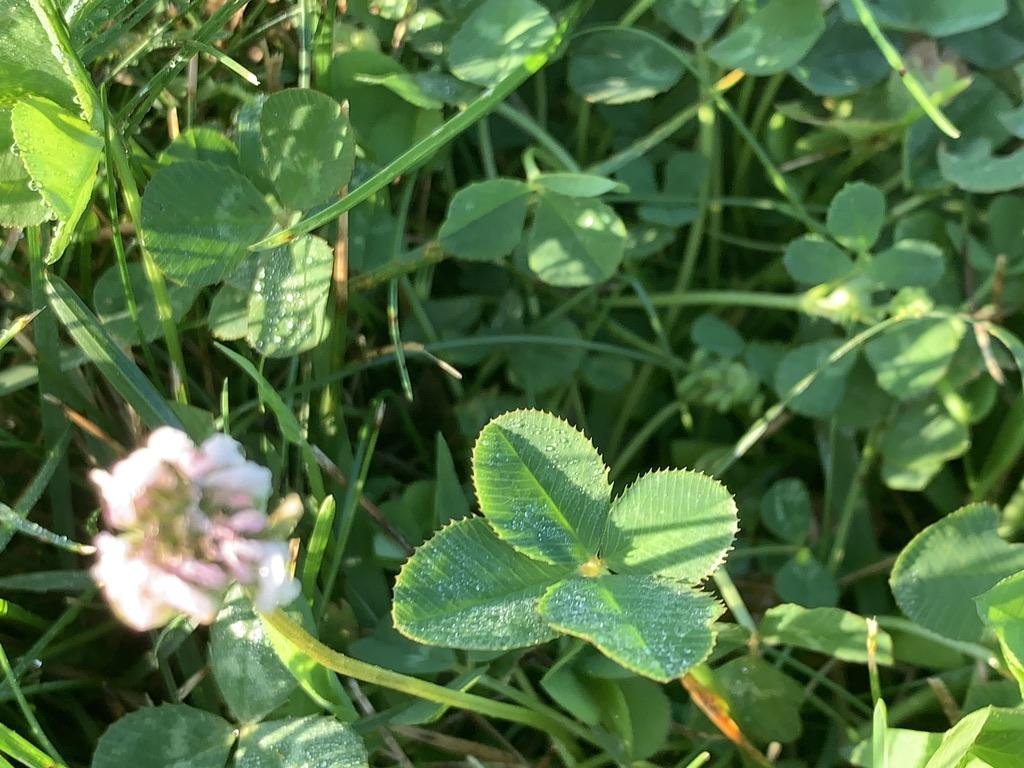4-Leaf-Clovers: (555, 211, 915, 474)
